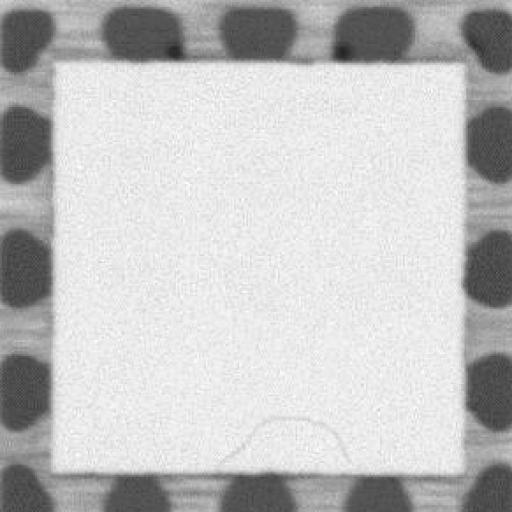DIE_CRACK: (214, 416, 346, 468)
